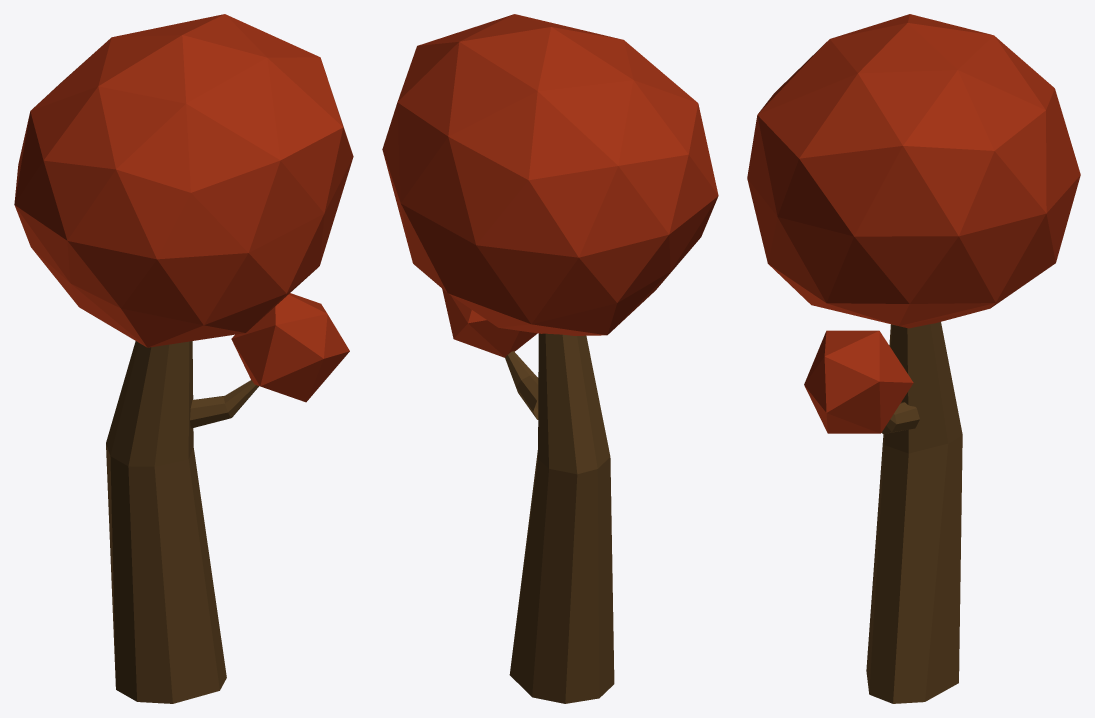
The model's file is tree_red.glb.
The picture shows the model from 3 angles, left to right: view 1: azimuth 30°, elevation 25°; view 2: azimuth 150°, elevation 25°; view 3: azimuth 270°, elevation 25°; orthographic projection. The views are drawn at different scales.
Parts seen in each view (by area): view 1: tree1.017; view 2: tree1.017; view 3: tree1.017.
Boxes of the visible parts, x1=… form: tree1.017: x1=14, y1=14, x2=353, y2=703; tree1.017: x1=382, y1=14, x2=718, y2=703; tree1.017: x1=747, y1=14, x2=1080, y2=703.
Size of the model in its own units: 3.37 by 7.25 by 3.3.
